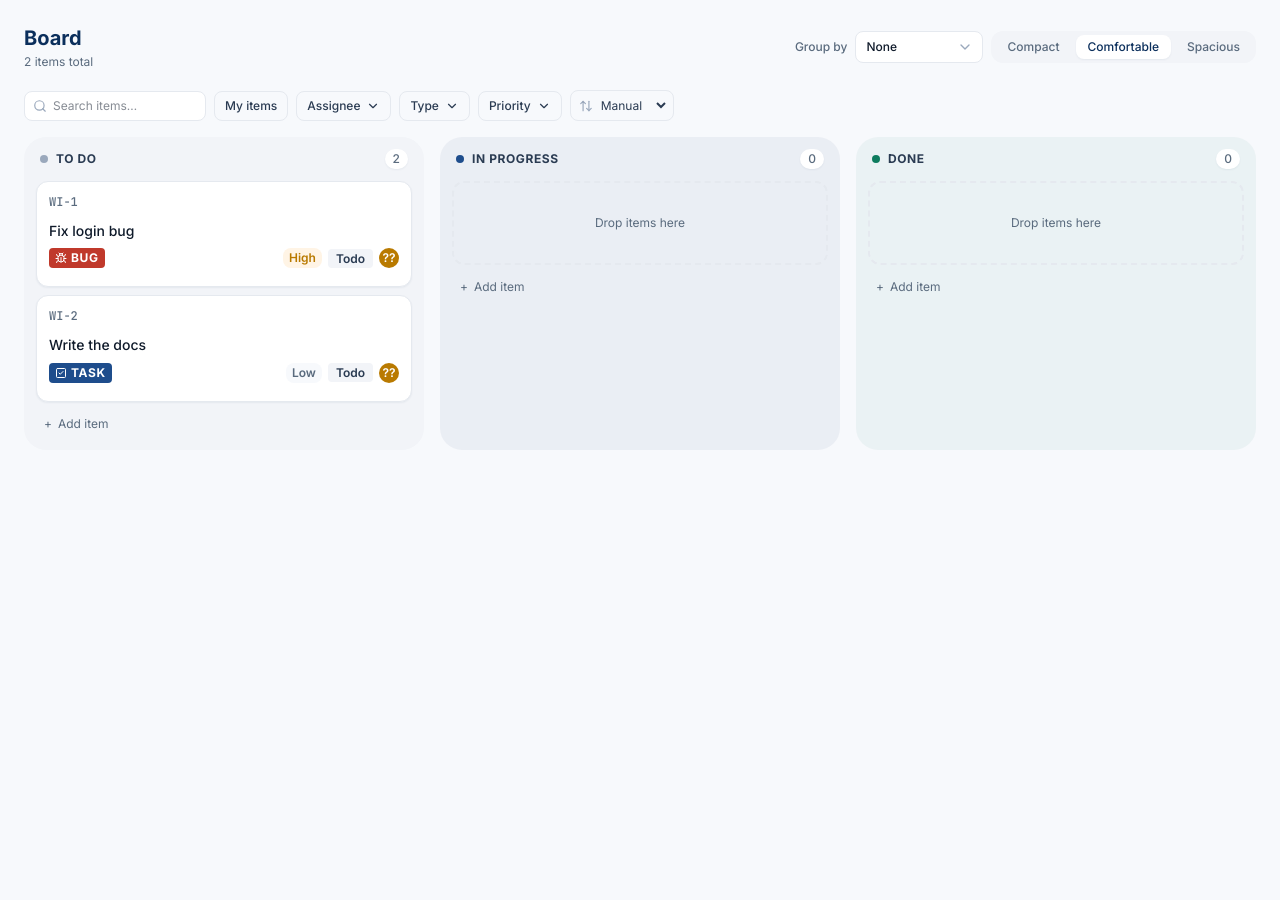
Scenario: BoardView › groups board cards into swimlanes and collapses a lane
This screenshot has width=1280, height=900.
Select "Assignee" in the dropdown labelled "Group by" at (920, 47), box x1=856 y1=31 x2=984 y2=63
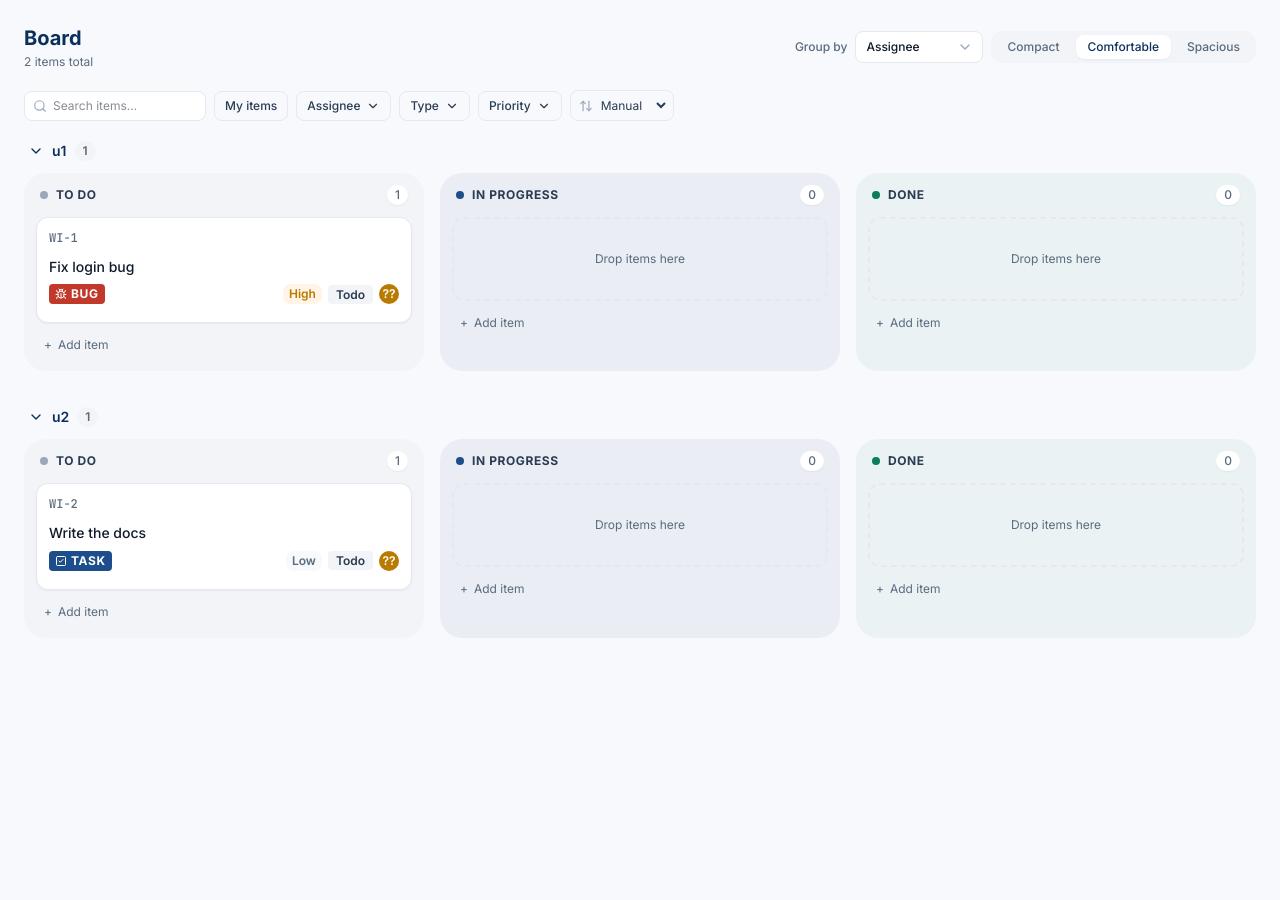
Expected: the button named "u11" is shown
Expected: the button named "u21" is shown, x1=24 y1=403 x2=102 y2=431
Click the button named "u11" at (62, 151), box x1=24 y1=137 x2=100 y2=165
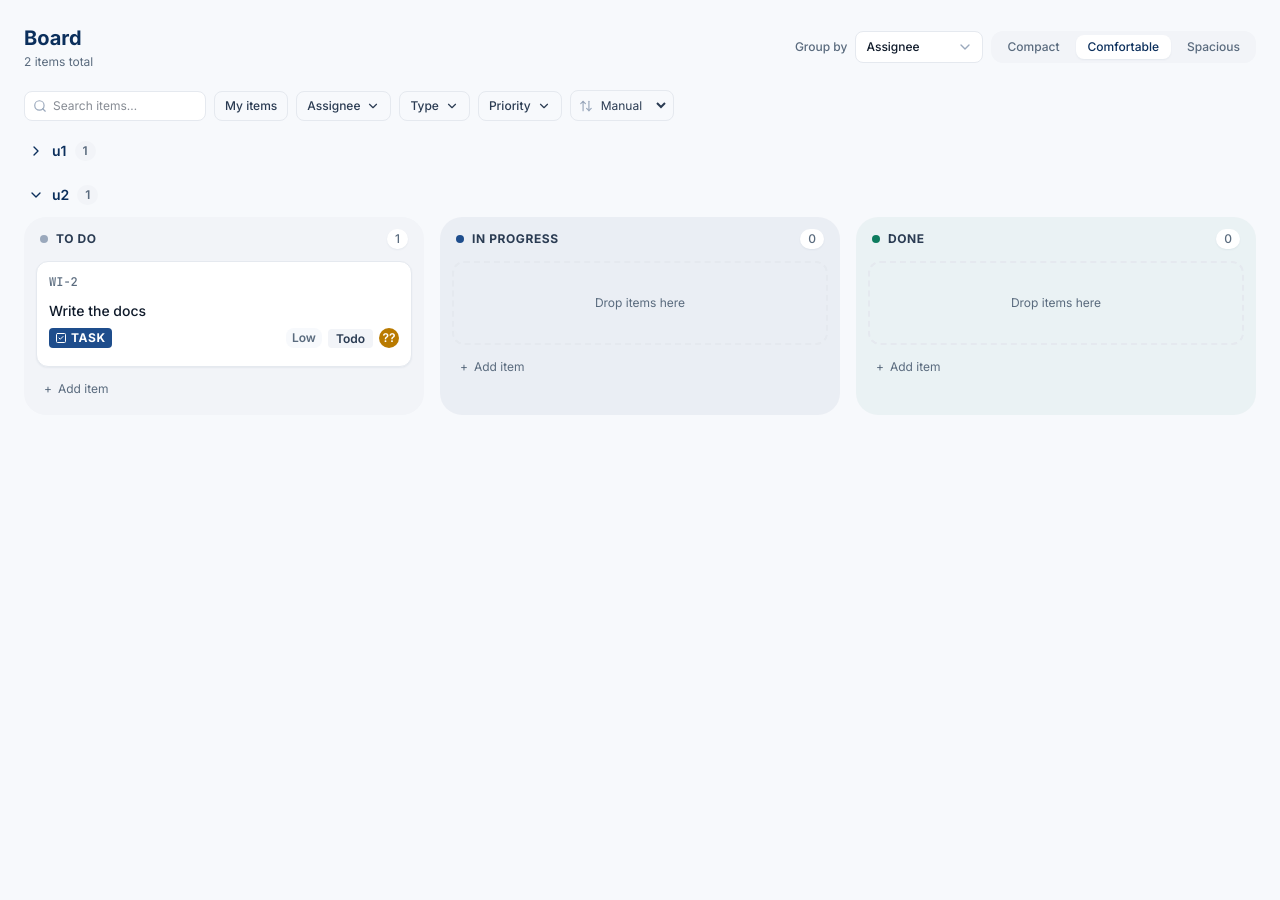
Expected: the button "Write the docs" is shown, x1=49 y1=301 x2=399 y2=320
Expected: the button "Fix login bug" is gone
